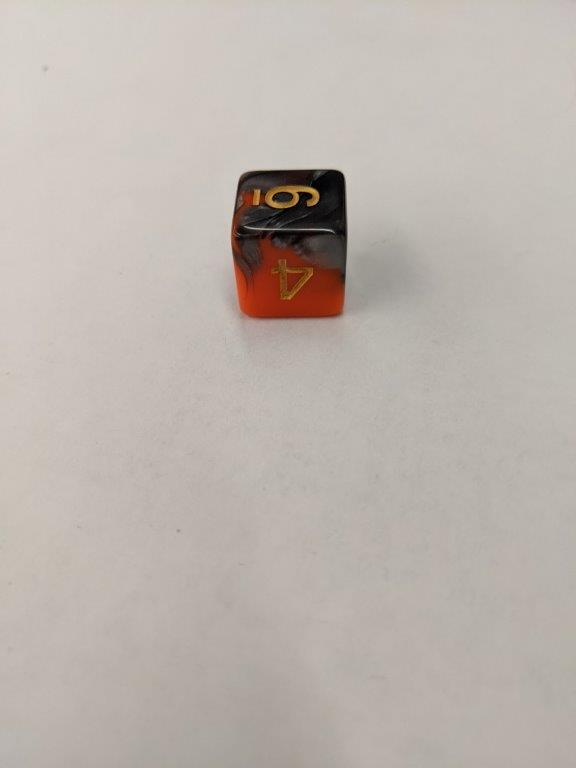d6-6: (229, 167, 350, 322)
